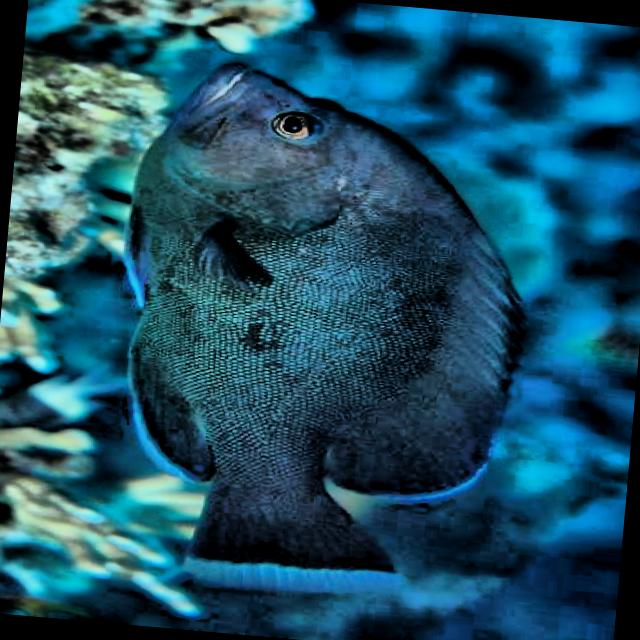fish: (45, 50, 561, 612)
